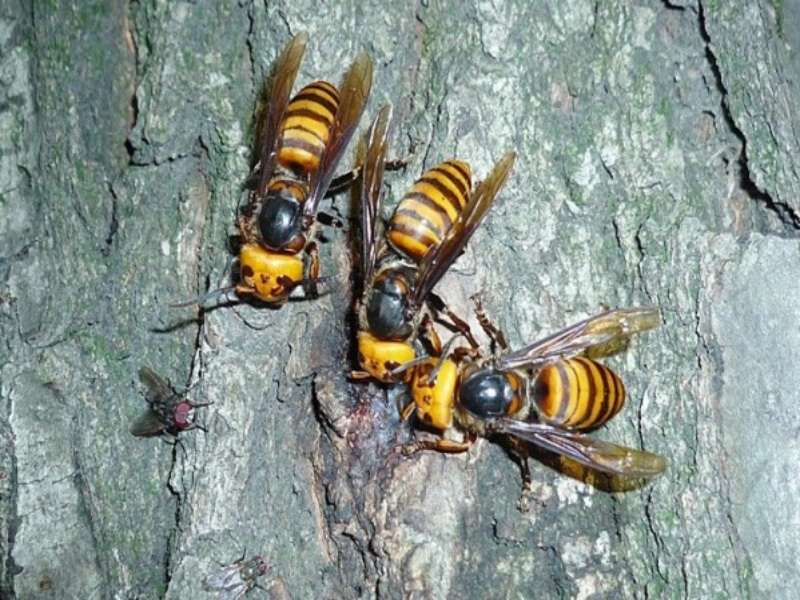asian_giant_hornet: (401, 312, 654, 471), (230, 45, 385, 304), (342, 154, 483, 380)
